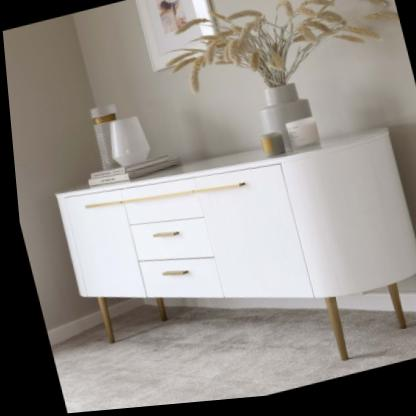Sideboard: (52, 134, 416, 366)
